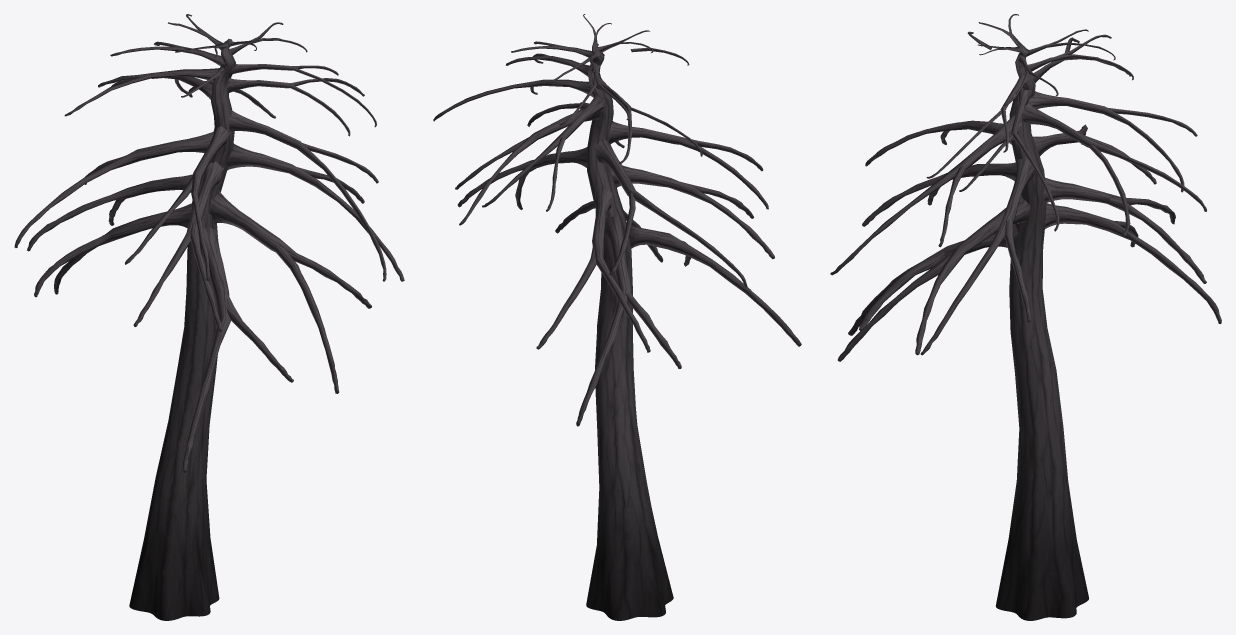
Rendered from nature-deadtree-4.glb.
3 renders of one model, left to right at view 1: azimuth 30°, elevation 25°; view 2: azimuth 150°, elevation 25°; view 3: azimuth 270°, elevation 25°, orthographic. The views are drawn at different scales.
Visible parts, largest first — view 1: DeadTree_4; view 2: DeadTree_4; view 3: DeadTree_4.
Part boxes in pixels (bbox=[...]): DeadTree_4: bbox=[14, 14, 404, 620]; DeadTree_4: bbox=[433, 14, 801, 620]; DeadTree_4: bbox=[830, 14, 1221, 620].
Bounding box in the file's own units: 7.96 × 12.77 × 7.73.
1 material, 1 textured.
